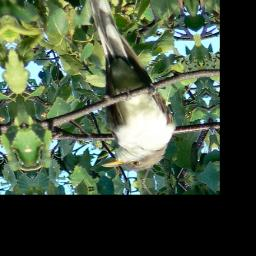Cuckoo: (72, 0, 182, 176)
